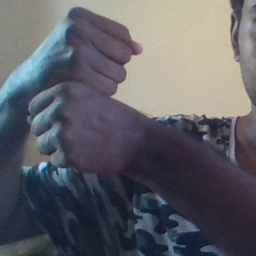G: (24, 4, 151, 179)
